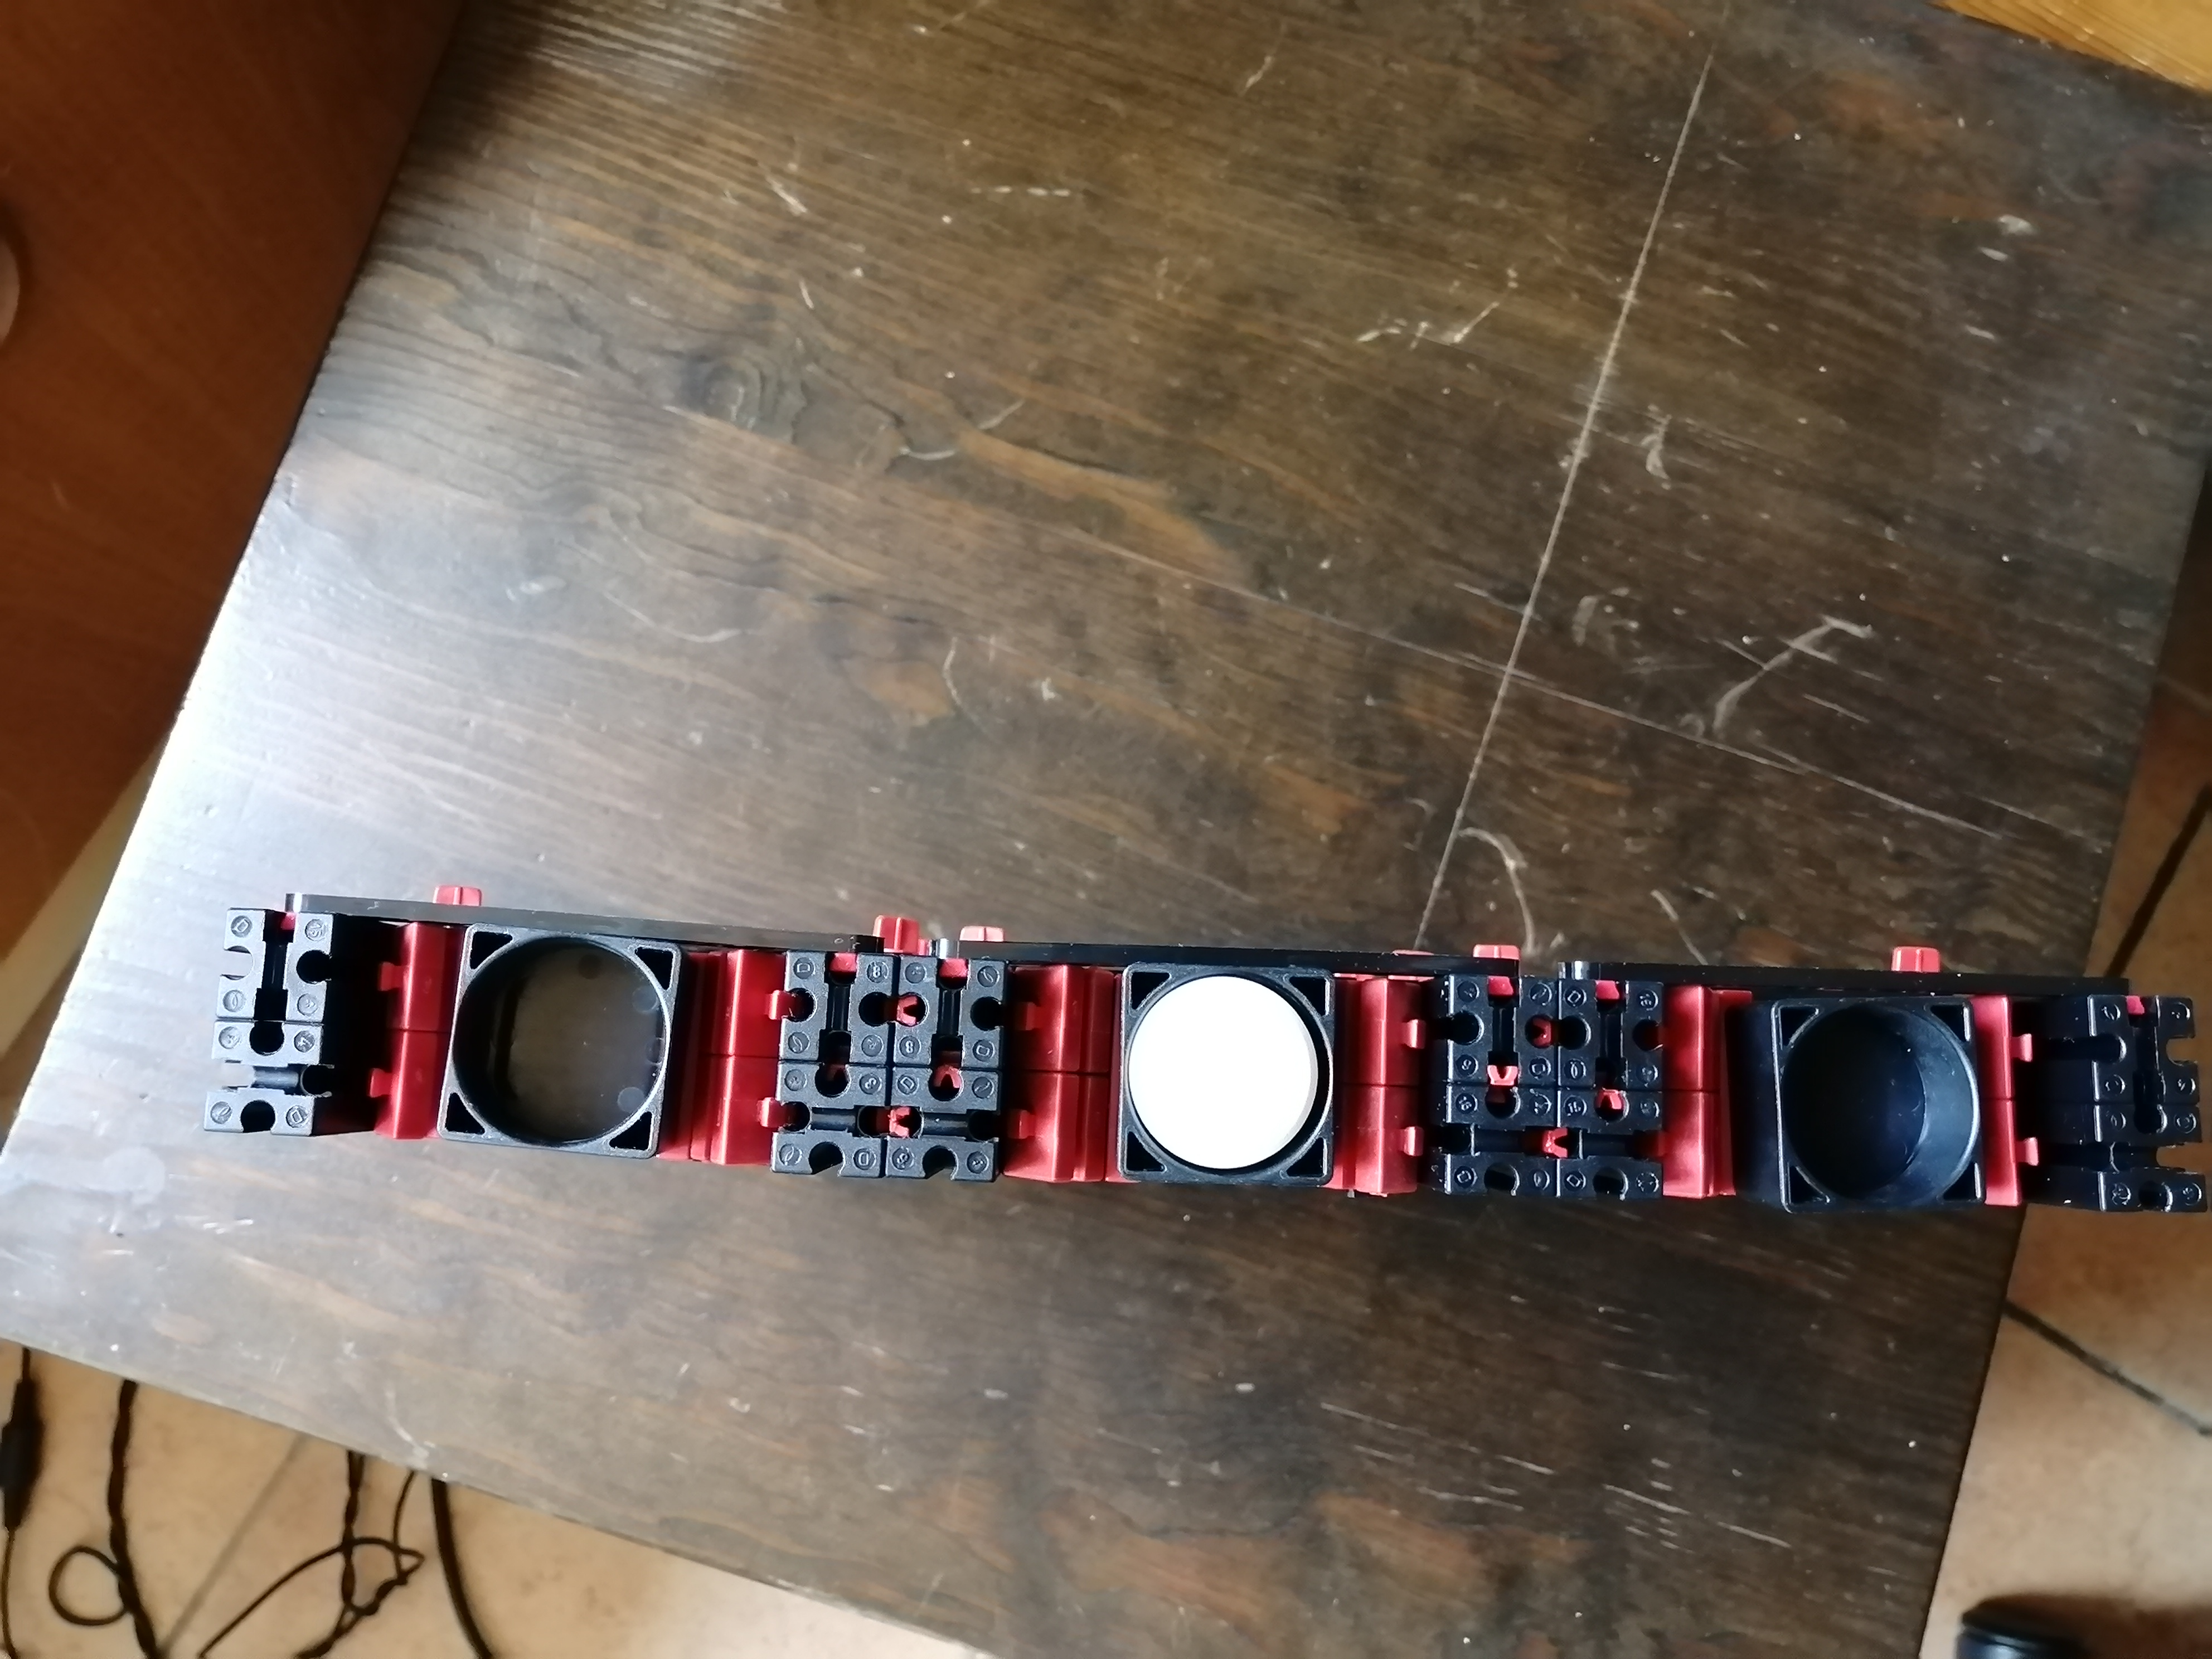Behaelter: (441, 925, 685, 1164), (1116, 974, 1338, 1192), (1747, 1006, 1977, 1209)
WerkStueck: (1134, 978, 1310, 1166)
